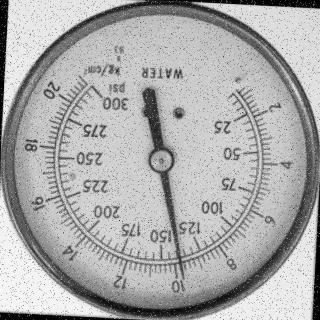gauge: (0, 4, 320, 320), (209, 67, 275, 131), (69, 56, 135, 114), (147, 146, 175, 174), (177, 266, 190, 282)
